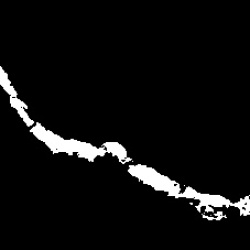crack: (1, 67, 250, 221)
